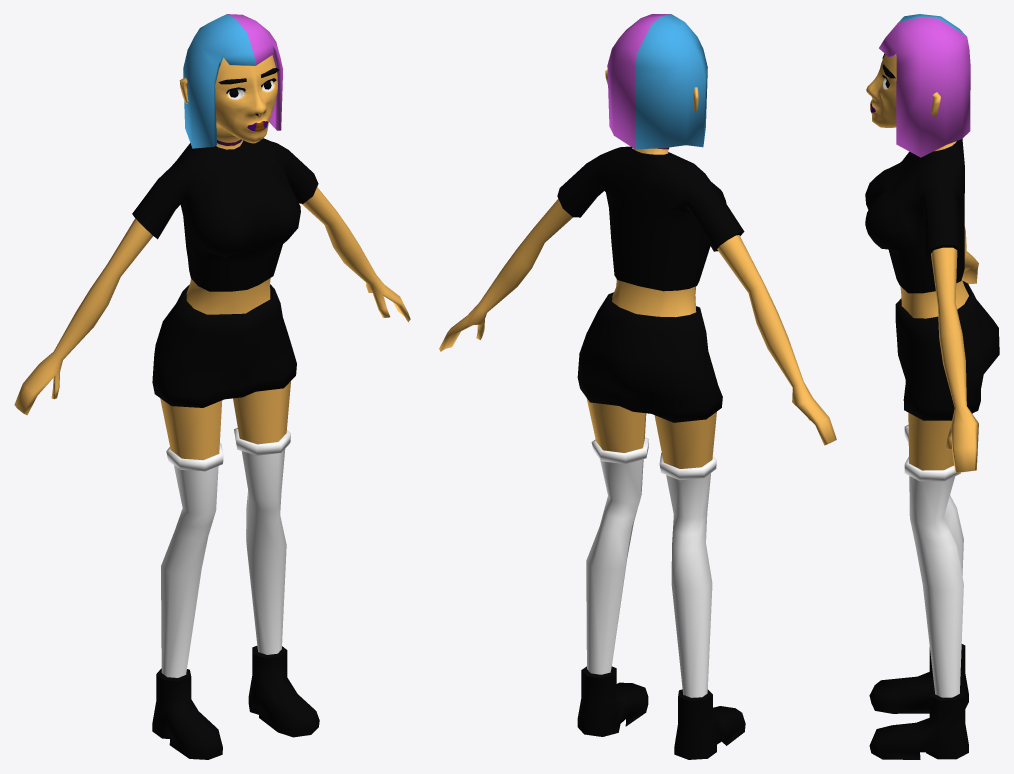
File: Girl_1.fbx
The picture shows the model from 3 angles, left to right: view 1: azimuth 30°, elevation 25°; view 2: azimuth 150°, elevation 25°; view 3: azimuth 270°, elevation 25°; orthographic projection.
Parts seen in each view (by area): view 1: Girl_1; view 2: Girl_1; view 3: Girl_1.
Boxes of the visible parts, <box> form: Girl_1: <box>14,14,410,759</box>; Girl_1: <box>439,14,836,759</box>; Girl_1: <box>865,14,999,759</box>.
Size of the model in its own units: 88.52 by 154 by 26.32.
